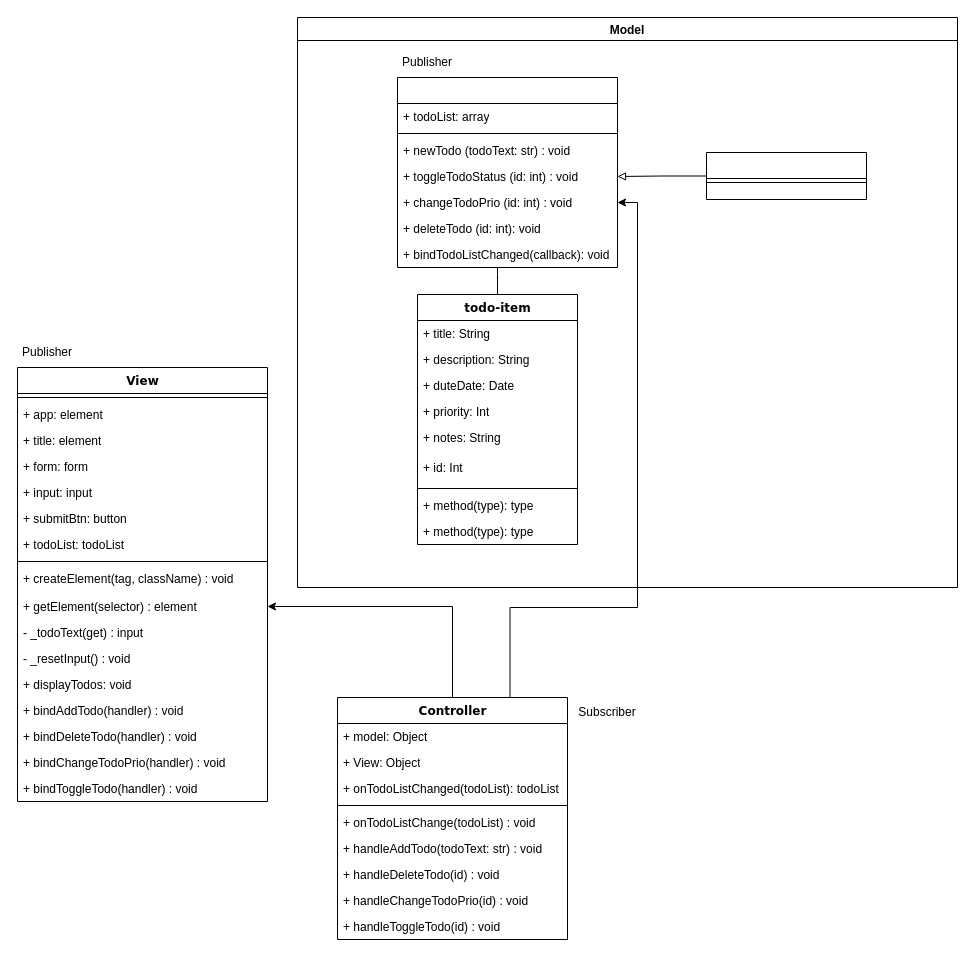
The diagram is 975 pixels wide and 960 high, and some of its shapes have lost their labels. The box of each missing label's shape, as (x1, y1, x2, y2) in pixels:
Model (todoList): (396, 76, 618, 268)
projects: (706, 152, 866, 200)
